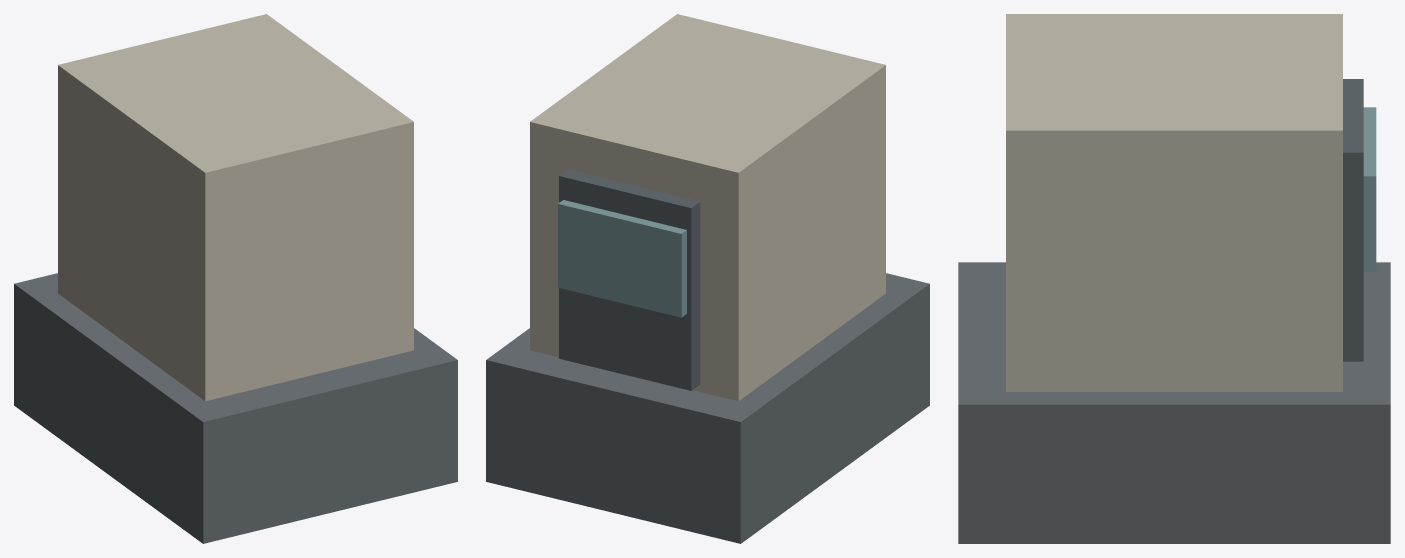
Rendered from iz3_environment_cart_01.glb.
The picture shows the model from 3 angles, left to right: view 1: azimuth 30°, elevation 25°; view 2: azimuth 150°, elevation 25°; view 3: azimuth 270°, elevation 25°; orthographic projection. The views are drawn at different scales.
Visible parts, largest first — view 1: cabinet, base; view 2: cabinet, base, panel, display; view 3: cabinet, base, panel, display.
Boxes of the visible parts, x1,y1,x2,y2 form: cabinet: [58, 14, 413, 401]; base: [14, 273, 457, 543]; cabinet: [530, 14, 885, 401]; base: [486, 273, 929, 543]; panel: [559, 169, 700, 390]; display: [558, 200, 686, 317]; cabinet: [1006, 14, 1342, 391]; base: [958, 262, 1390, 543]; panel: [1343, 79, 1363, 361]; display: [1363, 107, 1376, 272].
Bounding box in the file's own units: 0.7 × 0.92 × 0.9.
